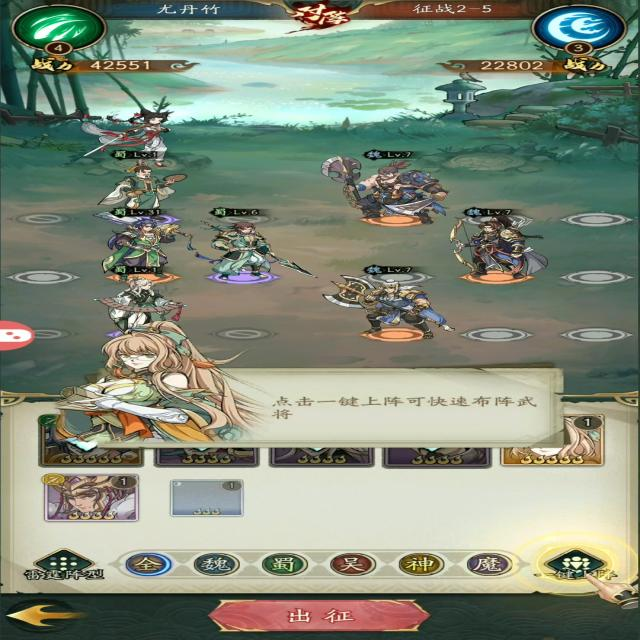hint-guide: (63, 333, 565, 447), (534, 532, 626, 598)
operation-back: (2, 602, 117, 637)
operation-camp: (176, 550, 249, 580), (118, 549, 184, 579), (460, 548, 516, 581), (384, 551, 444, 580), (255, 552, 316, 580), (318, 553, 379, 580)
operation-enter: (186, 594, 427, 638)
operation-formation: (26, 550, 109, 583)
operation-oneKeyDeployment: (536, 549, 610, 581)
operation-outLineup: (30, 473, 148, 527)
